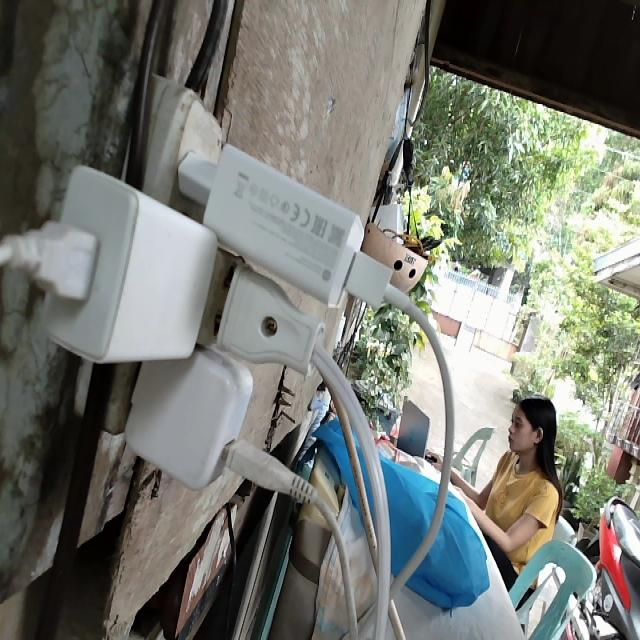-: (13, 76, 392, 503)
